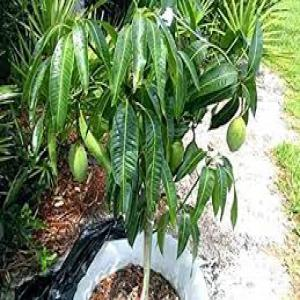Tree: (12, 2, 258, 289)
